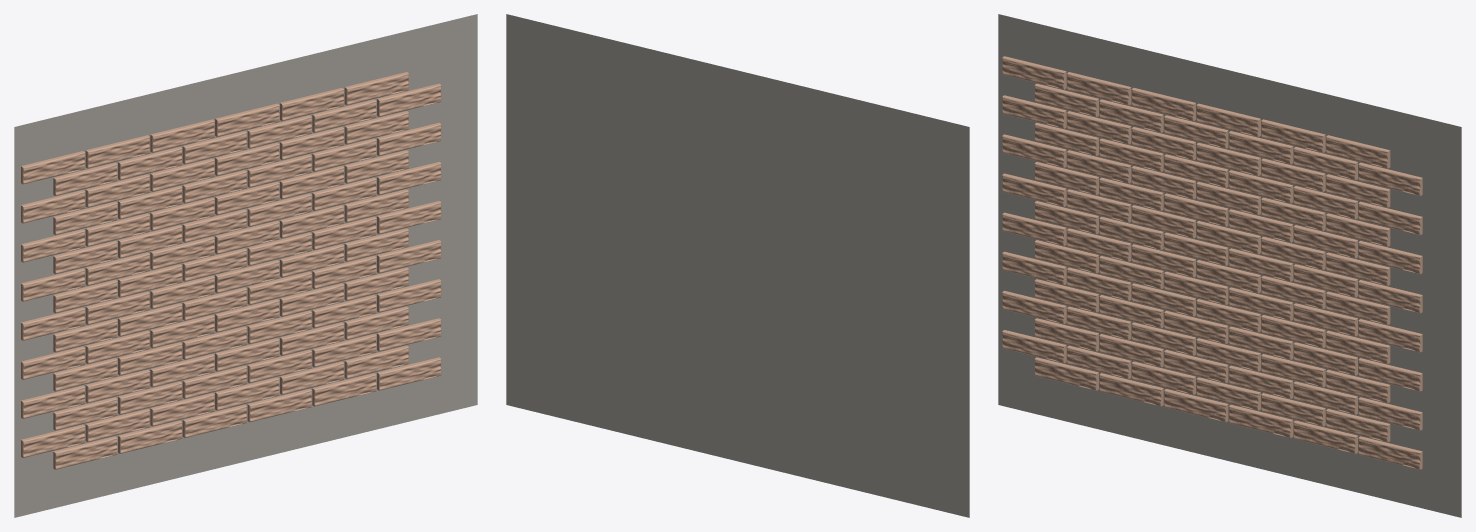
Rendered from terilgan.glb.
3 views of the same model, side by side, from view 1: azimuth 30°, elevation 25°; view 2: azimuth 150°, elevation 25°; view 3: azimuth 330°, elevation 25° (orthographic).
Parts seen in each view (by area): view 1: Plane, t1_3, t2_0, t3_3, t0_0, t0_1, t1_2, t2_5, t4_0, t6_1, t7_3, t10_1 (+85 smaller); view 2: Plane; view 3: Plane, t1_3, t2_5, t3_3, t0_4, t0_5, t1_0, t1_4, t2_0, t4_5, t6_4, t7_3 (+85 smaller).
Part boxes in pixels (x1,y1,x2,y2): Plane: (14,14,477,517); t1_3: (215,377,279,410); t2_0: (53,397,117,430); t3_3: (215,338,279,371); t0_0: (53,436,117,469); t0_1: (118,420,182,453); t1_2: (150,393,214,426); t2_5: (377,318,441,351); t4_0: (53,358,117,391); t6_1: (118,303,182,336); t7_3: (215,260,279,293); t10_1: (118,225,182,258); Plane: (506,14,969,517); Plane: (998,14,1461,517); t1_3: (1196,377,1260,410); t2_5: (1358,397,1422,430); t3_3: (1196,338,1260,371); t0_4: (1293,420,1357,453); t0_5: (1358,436,1422,469); t1_0: (1002,330,1066,363); t1_4: (1261,393,1325,426); t2_0: (1034,318,1098,351); t4_5: (1358,358,1422,391); t6_4: (1293,303,1357,336); t7_3: (1196,260,1260,293).
Size of the model in its own units: 1.86 by 1.5 by 0.0212.
